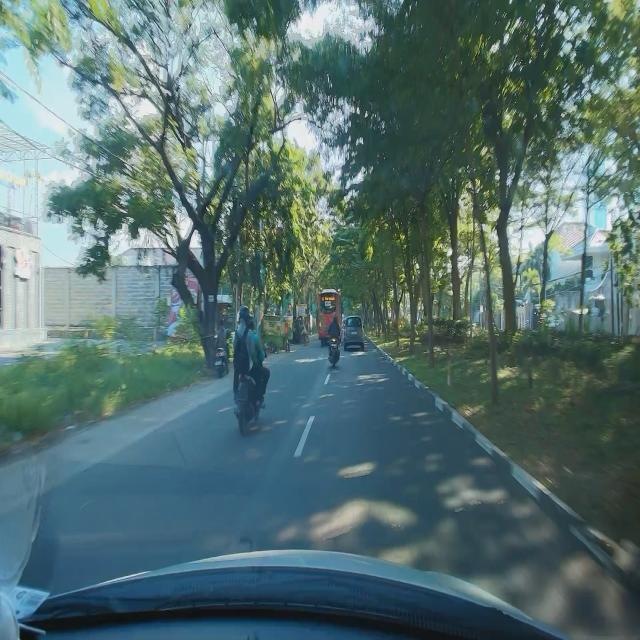car: (343, 314, 367, 352)
license-plate: (351, 331, 357, 335)
